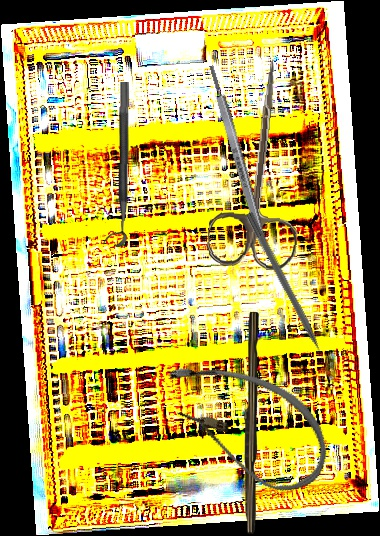Cannula: (143, 344, 346, 506)
Fixation Ring: (103, 81, 130, 247)
Iris Scissors: (205, 55, 313, 272)
Pusher: (243, 211, 332, 371)
Scalpel Handle: (206, 64, 269, 247), (242, 312, 259, 534)
